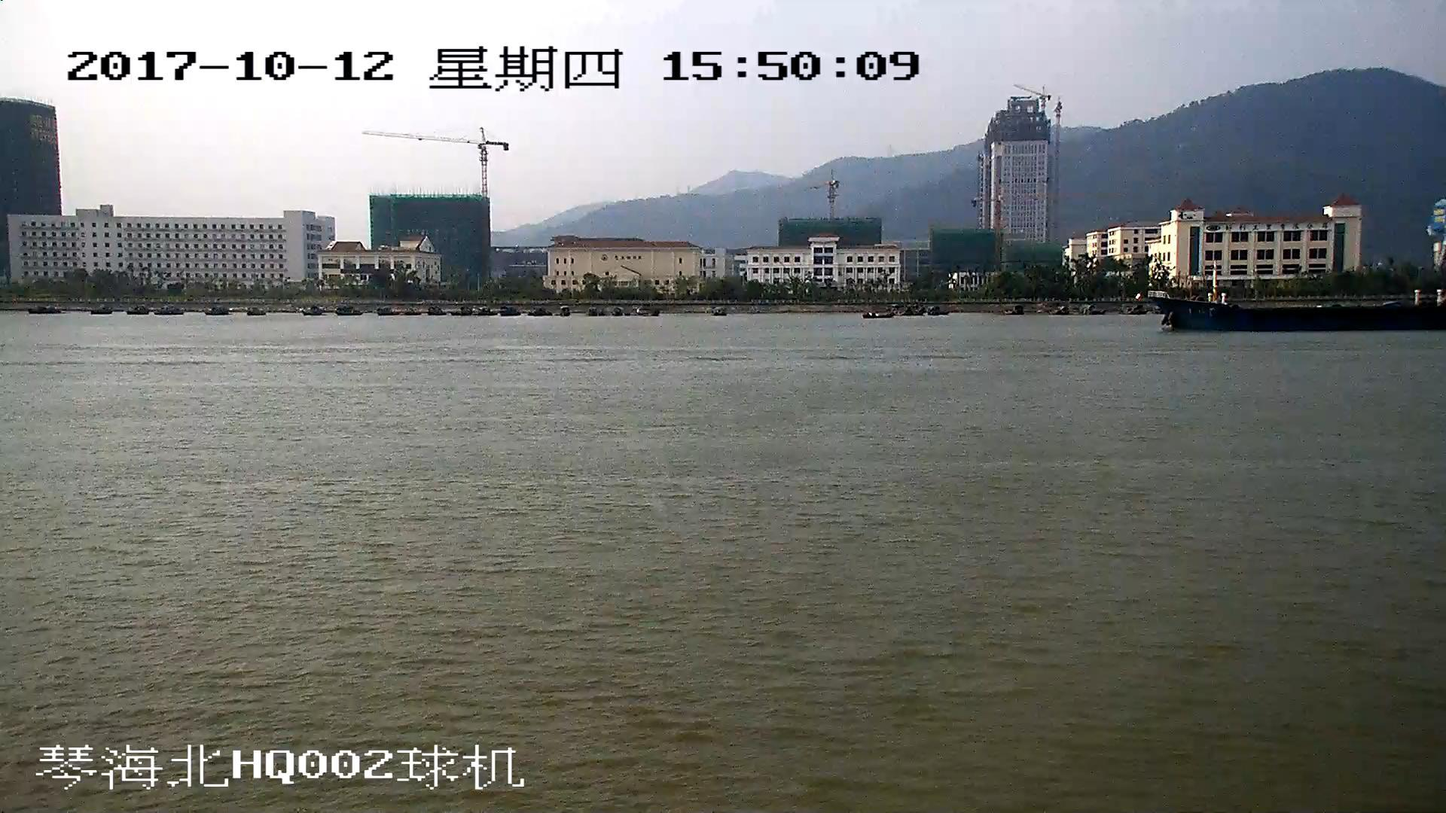general cargo ship: (1152, 273, 1445, 331)
